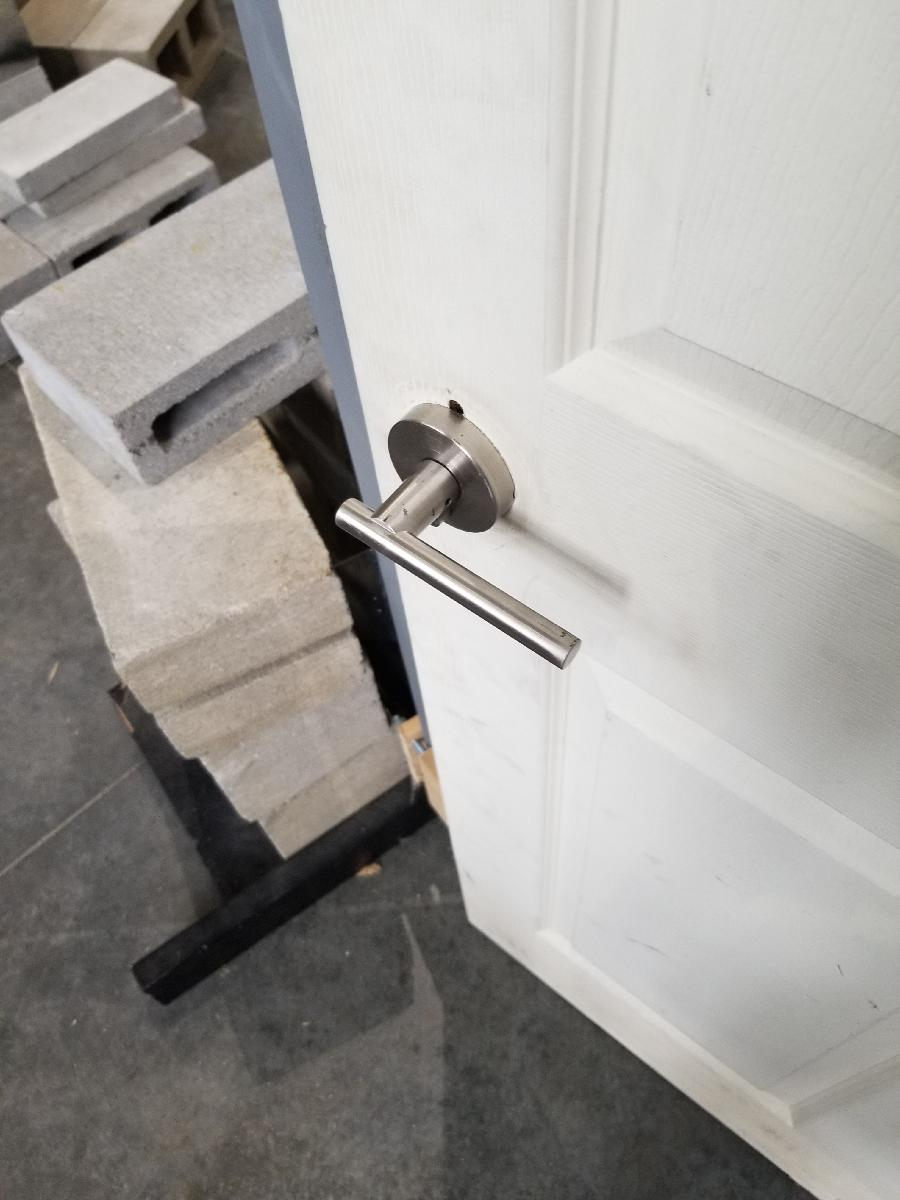doorHandle: (325, 393, 585, 677)
